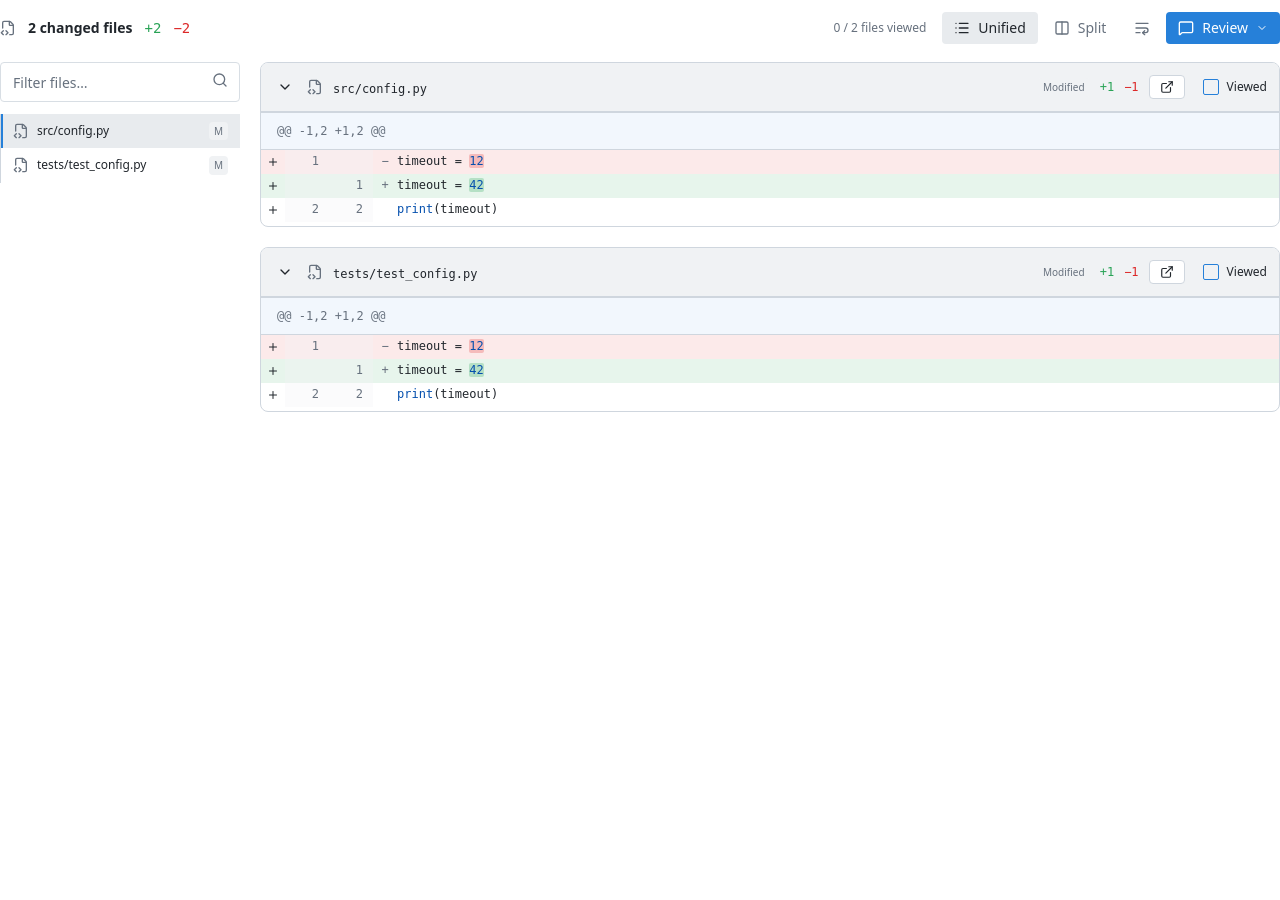
Test: PullRequestFiles › saves private line comments, reviewed progress and submits them as one review
Click the button named "Comment on src/config.py new line 1" at (273, 186), box [261, 174, 285, 198]
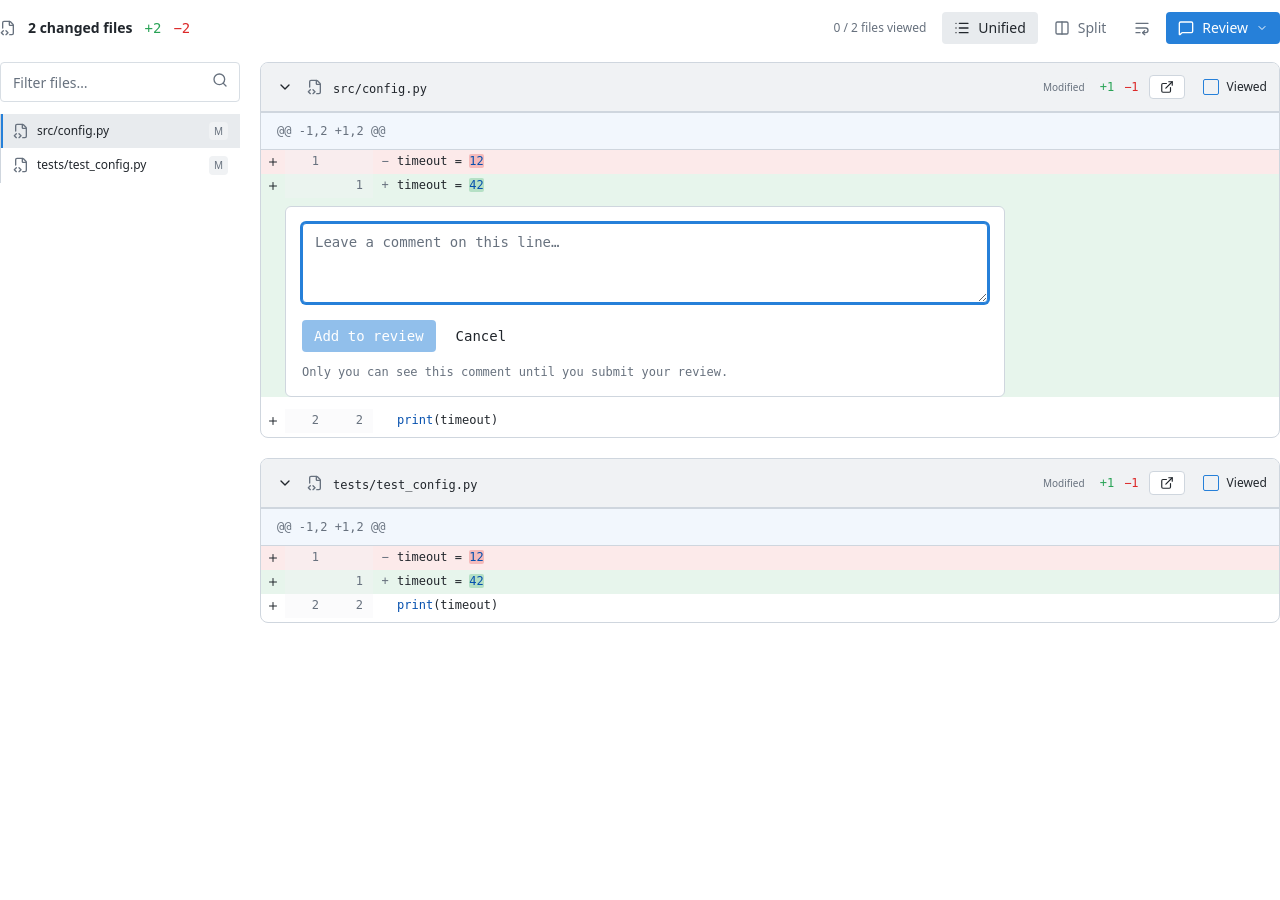
Type "Please add a test" into the text box named "Line comment" at (645, 263), box [302, 223, 988, 303]
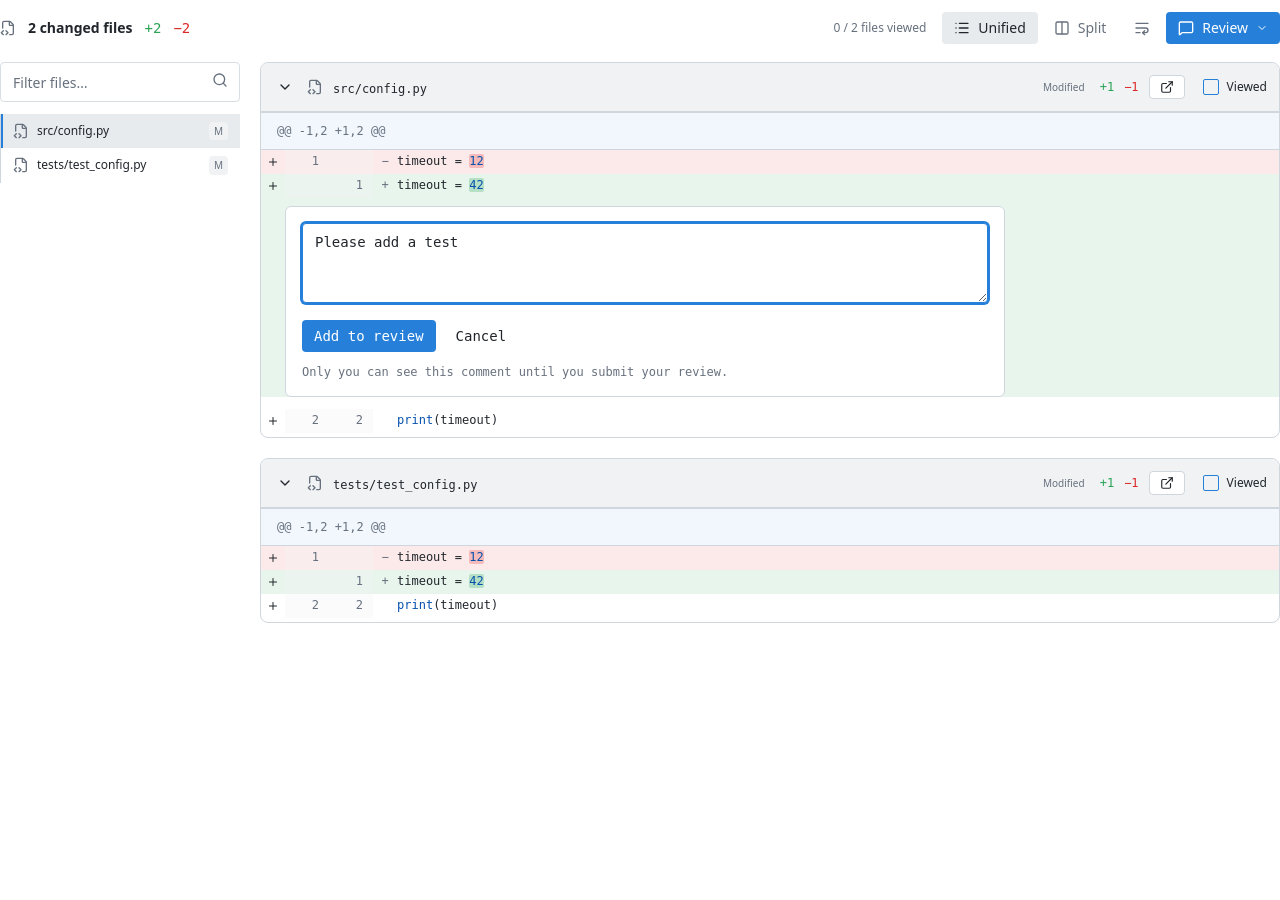
Click the button "Add to review" at (369, 336), box [302, 320, 436, 352]
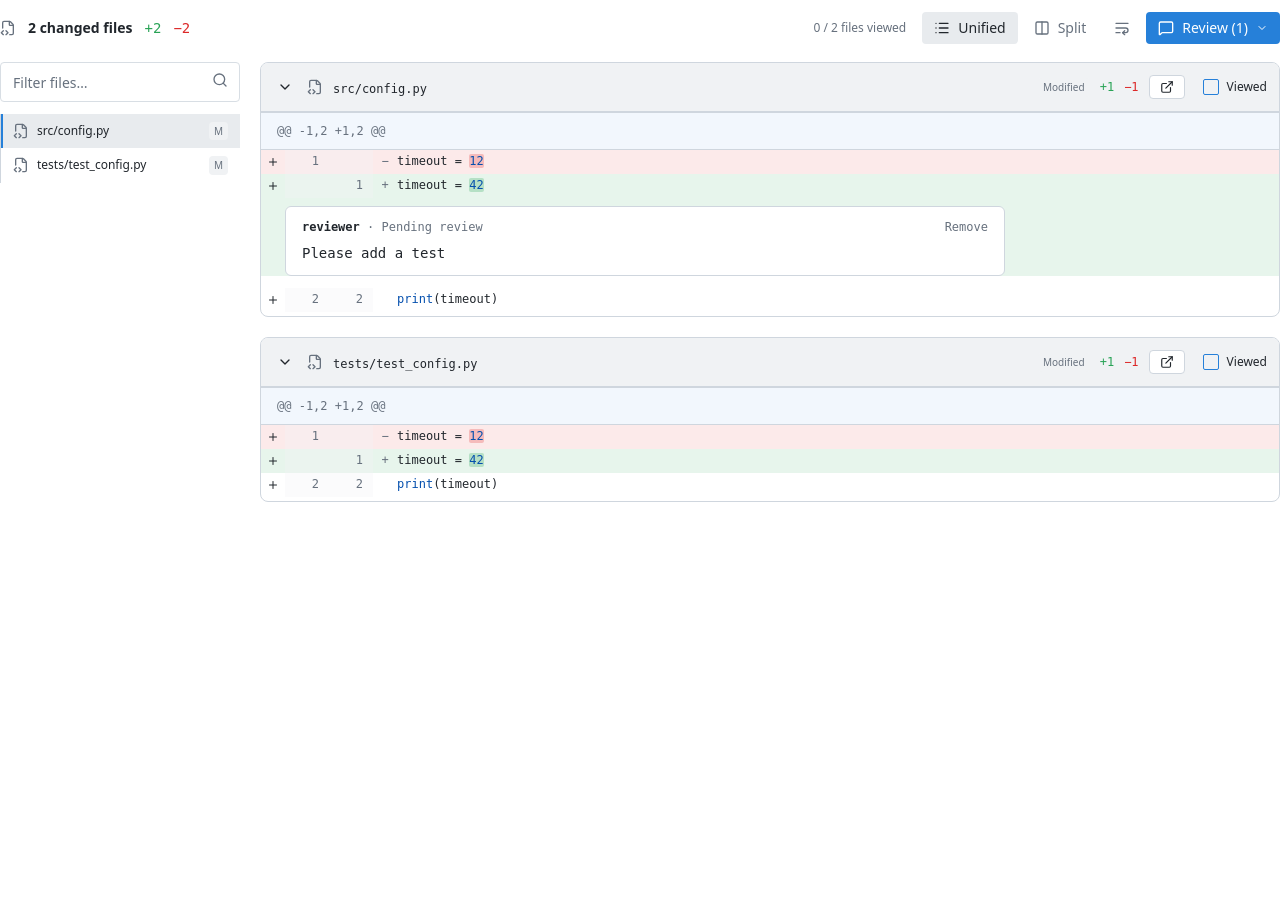
Expected: the text "Please add a test" is shown, [302, 245, 445, 261]
Click the checkbox named "Mark src/config.py as viewed" at (1211, 87), box [1203, 79, 1219, 95]
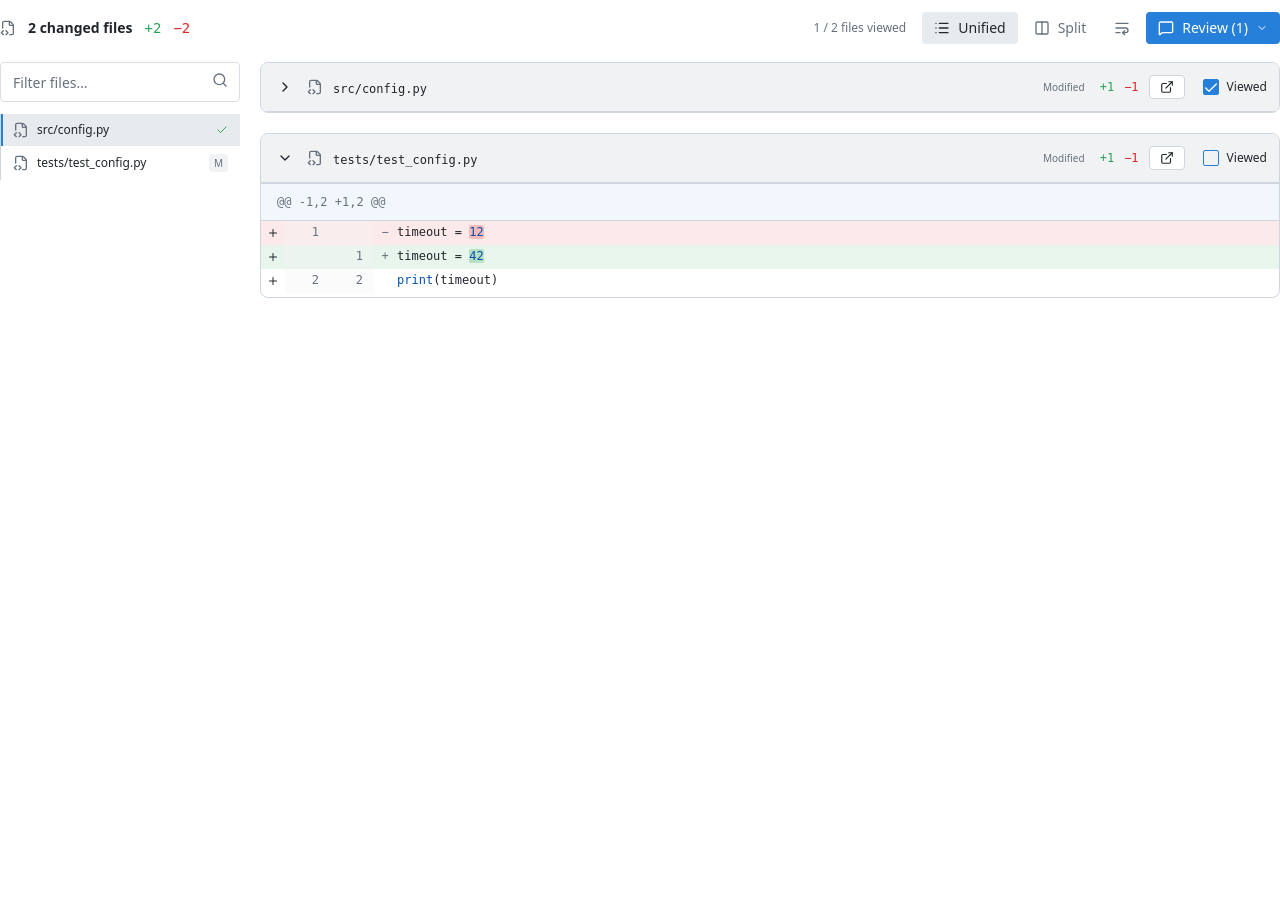
Expected: the text "1 / 2 files viewed" is shown, [813, 20, 906, 36]
Click the button "Review (1)" at (1213, 28), box [1146, 12, 1279, 44]
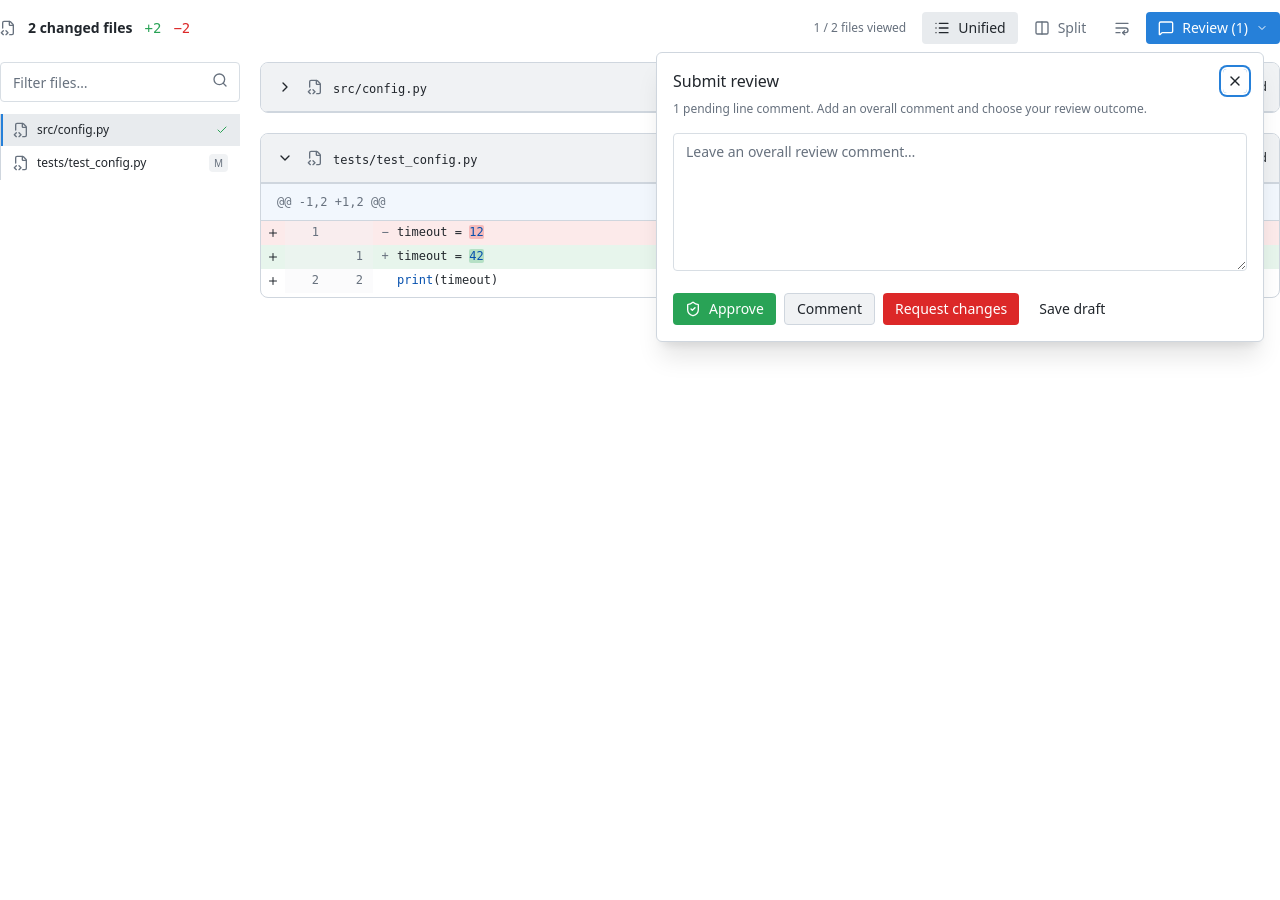
Type "Looks good once tested" into the text box labelled "review comment" at (960, 202), box [673, 133, 1247, 271]
Click the button "Approve" at (724, 309), box [673, 293, 776, 325]
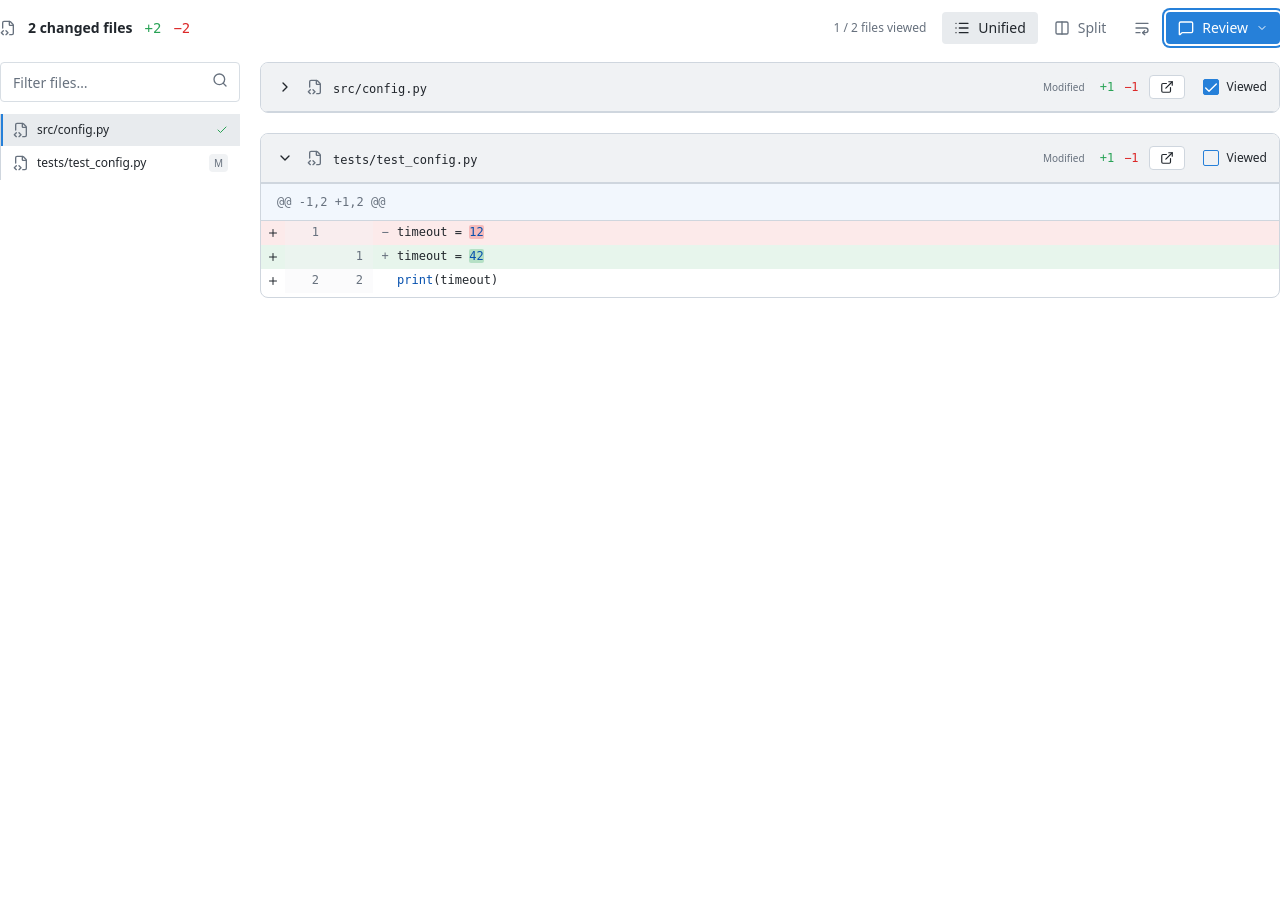
Expected: the dialog is gone
